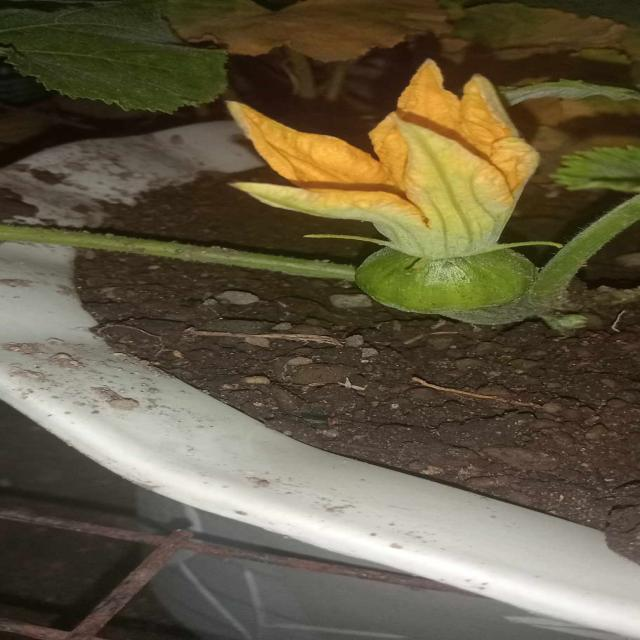flower: (219, 53, 550, 242)
squash: (352, 247, 541, 315)
